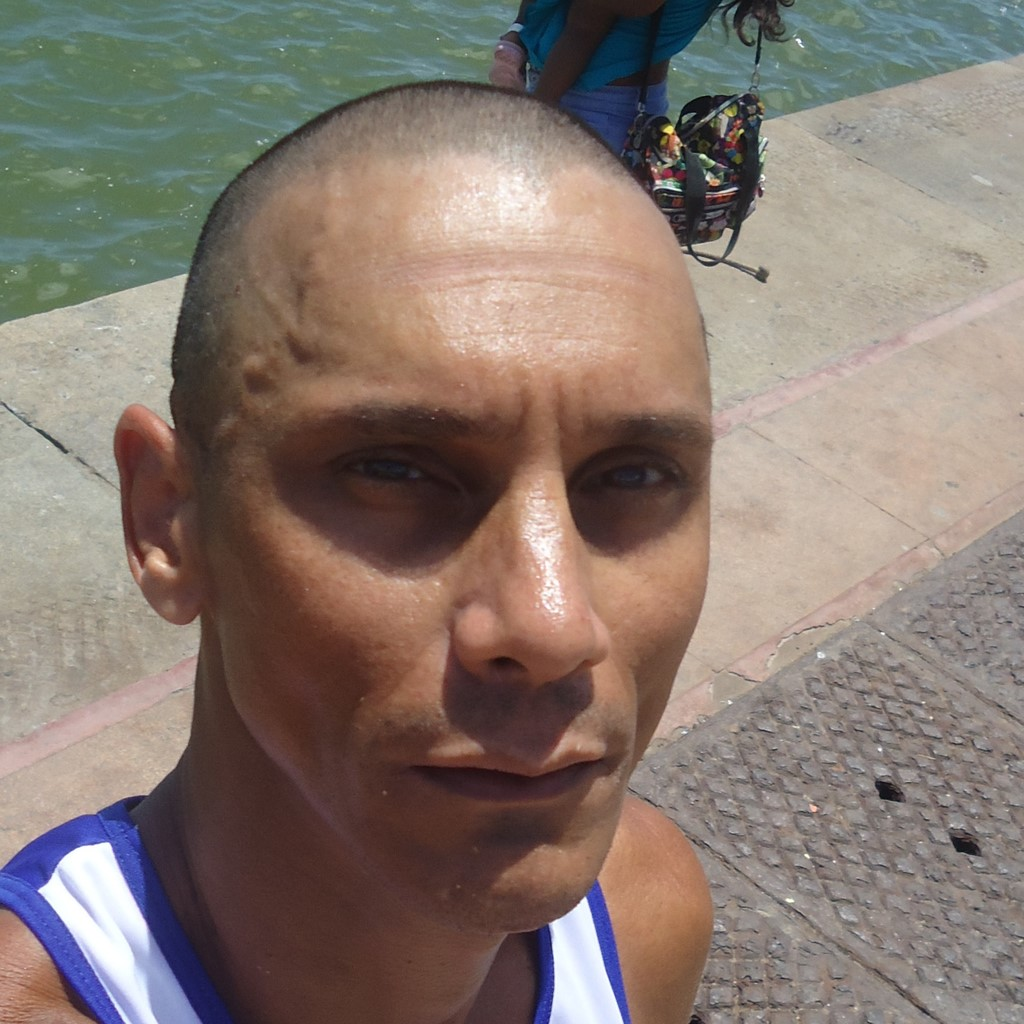sin_mascara: (205, 123, 706, 936)
